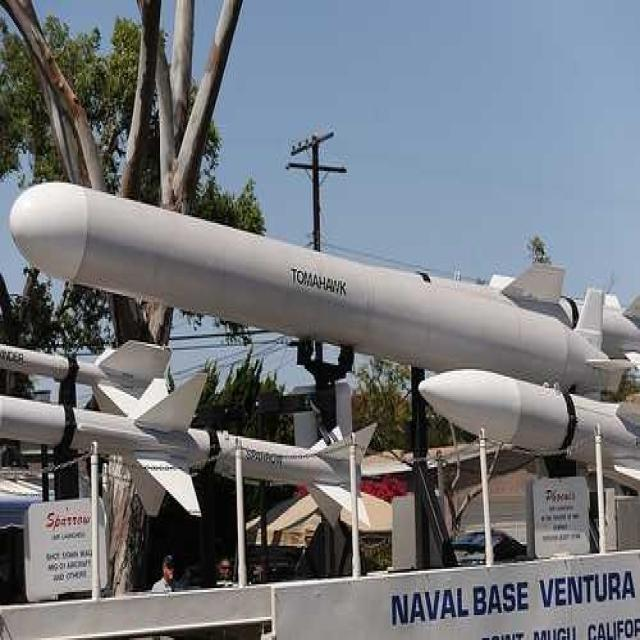missile: (11, 164, 640, 464), (0, 376, 379, 500), (2, 326, 185, 426)
